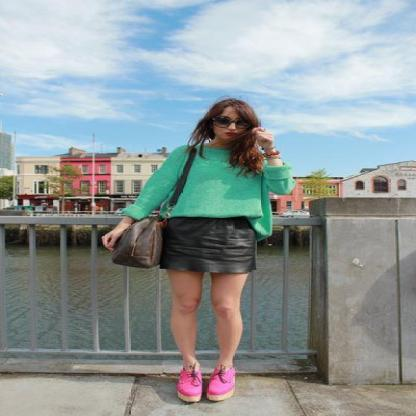bag: (111, 155, 198, 268)
shirt: (120, 144, 290, 235)
shoe: (178, 366, 233, 397)
skirt: (158, 216, 274, 282)
sunglass: (218, 111, 260, 136)
